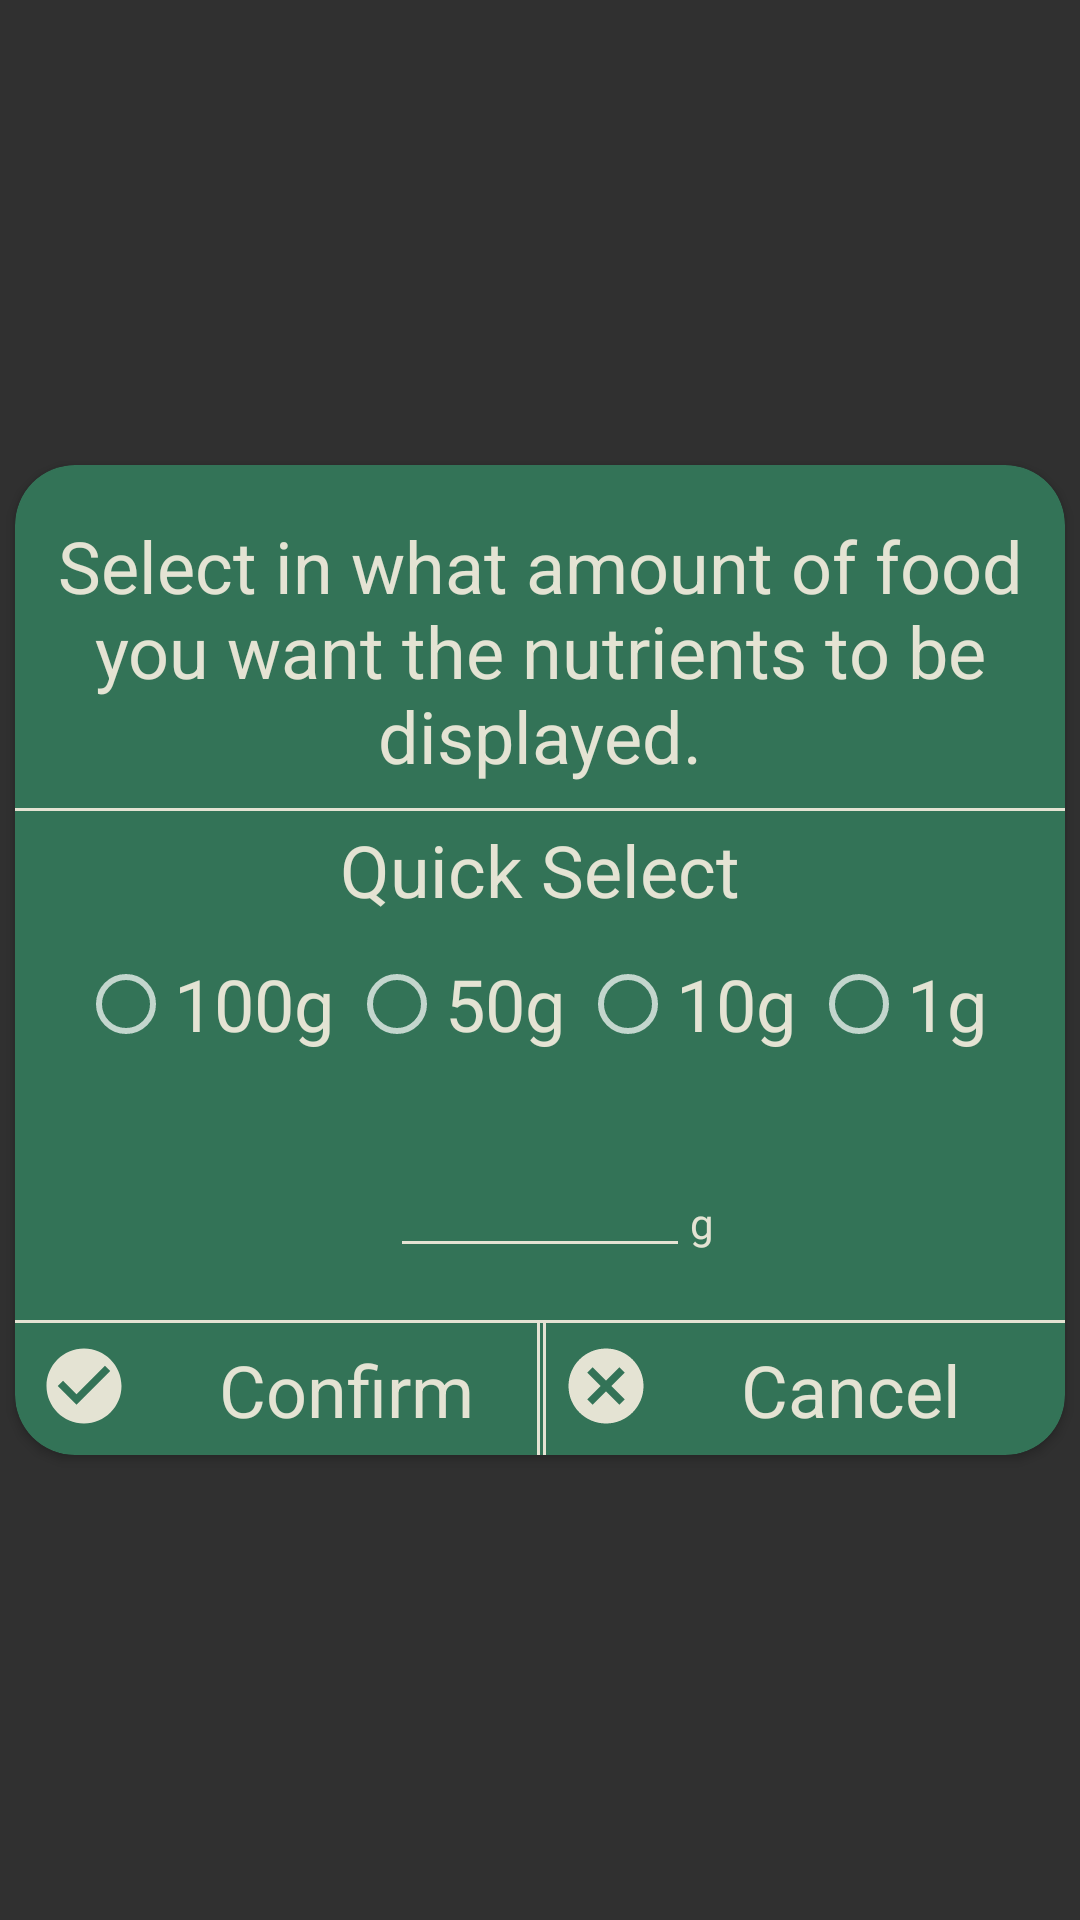

Screen size 1080px x 1920px. Icon name, then its box in pixels as [x1=x1, y1=y1, x2=x2, y2=y2]:
checkmark: [x1=46, y1=1348, x2=122, y2=1424]
